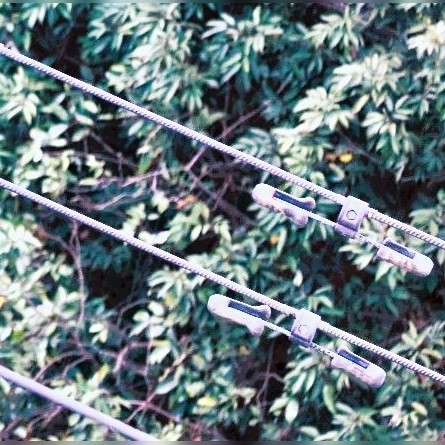Shockproof hammer: (248, 168, 442, 280), (200, 281, 389, 392)
